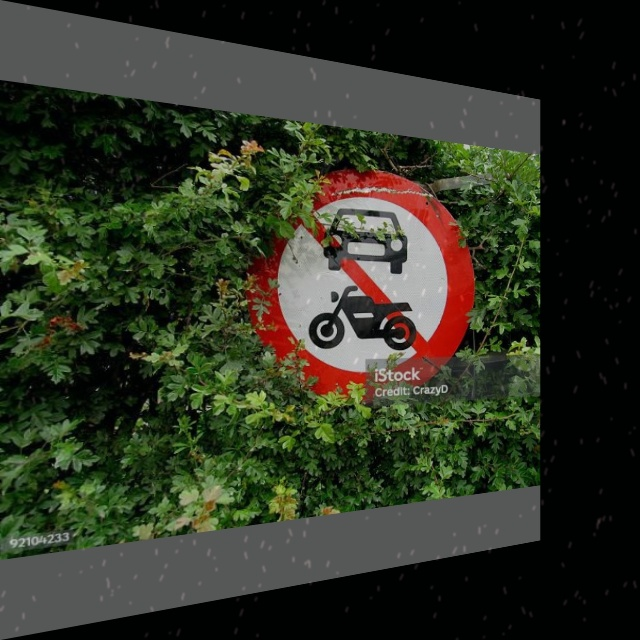All_Motor_Vehicles_Prohibited: (248, 157, 474, 412)
